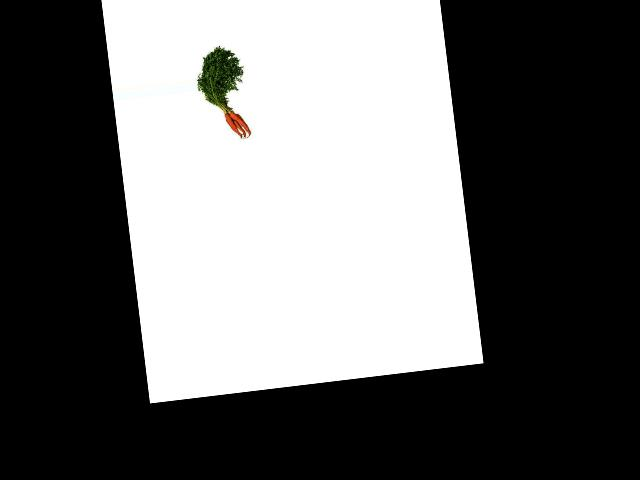carrot: (229, 107, 251, 135)
